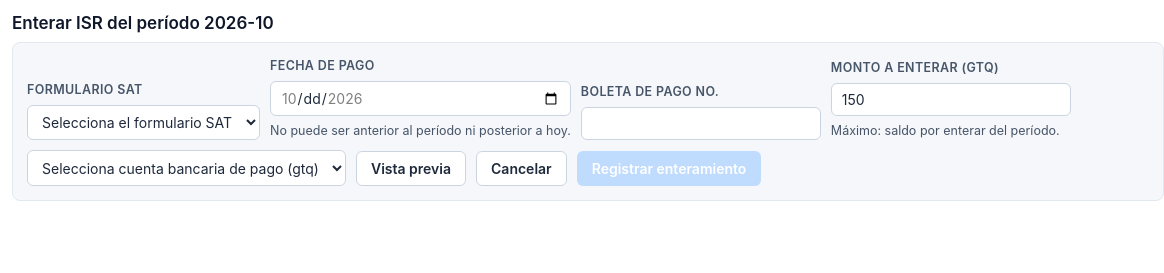
Test: FormularioEnteramiento › muestra error si la vista previa falla
Select "SAT-1331" in the dropdown labelled "Formulario SAT" at (144, 123), box [27,105,260,140]
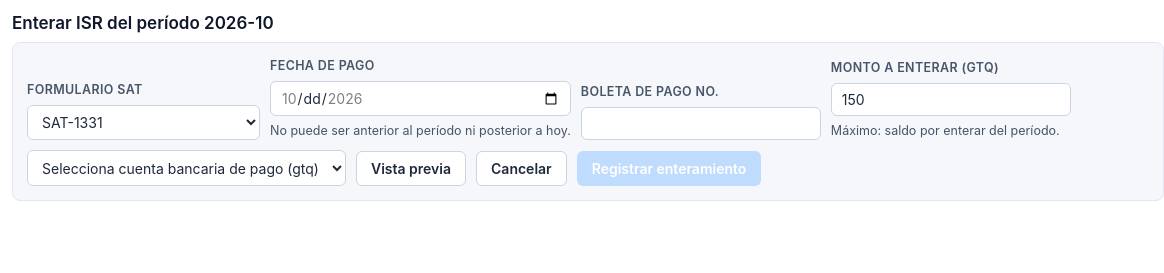
Type "2026-10-10" into the date field labelled "Fecha de pago" at (420, 99), box [270,81,571,116]
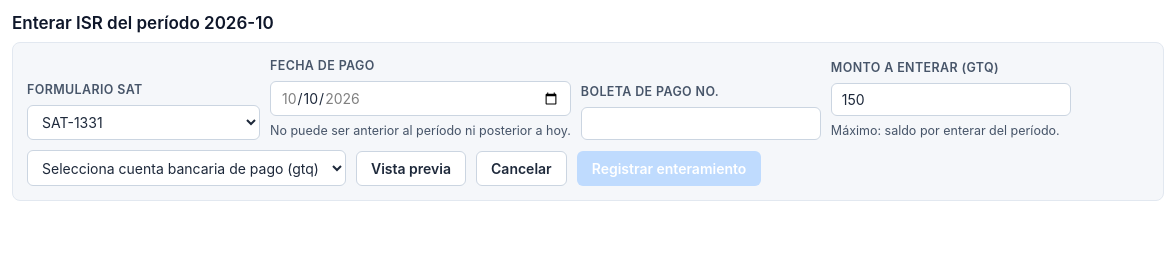
Type "B-1" into the field labelled "Boleta de pago No." at (701, 124), box [581,107,821,140]
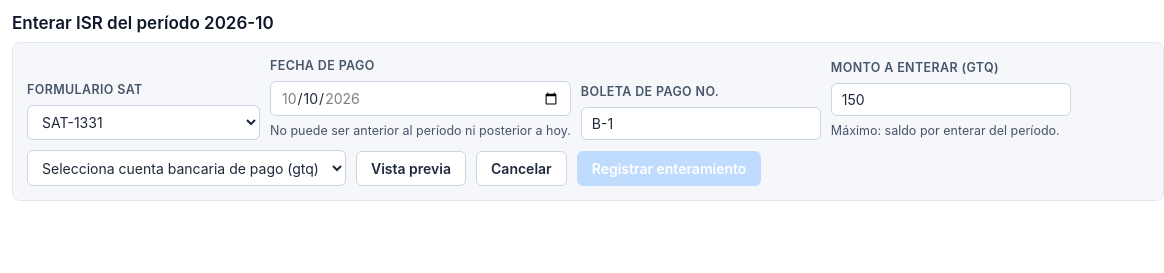
Select "Banco Industrial 001" in the dropdown named "Cuenta bancaria de pago (GTQ)" at (186, 168), box [27,150,346,186]
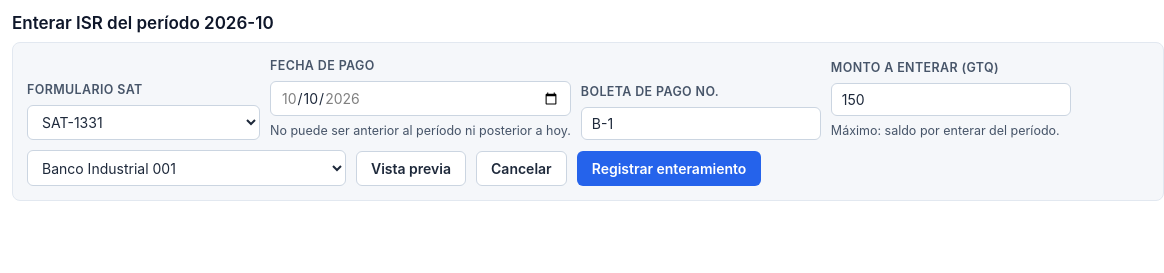
Click the button "Vista previa" at (411, 168), box [356,151,466,186]
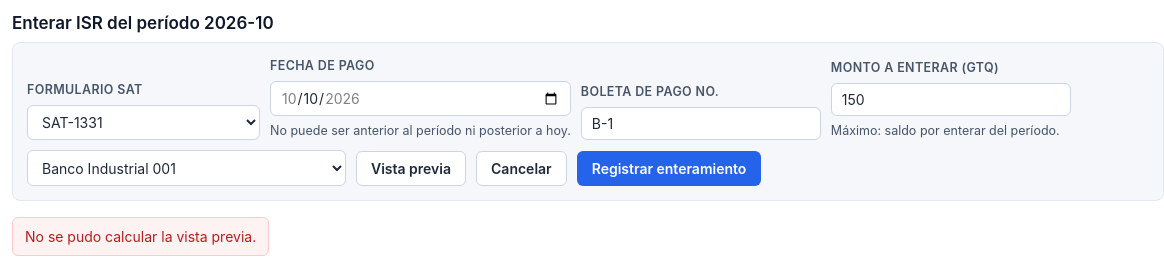
Now the text "No se pudo calcular la vista previa." is shown, box [12,217,269,256]
